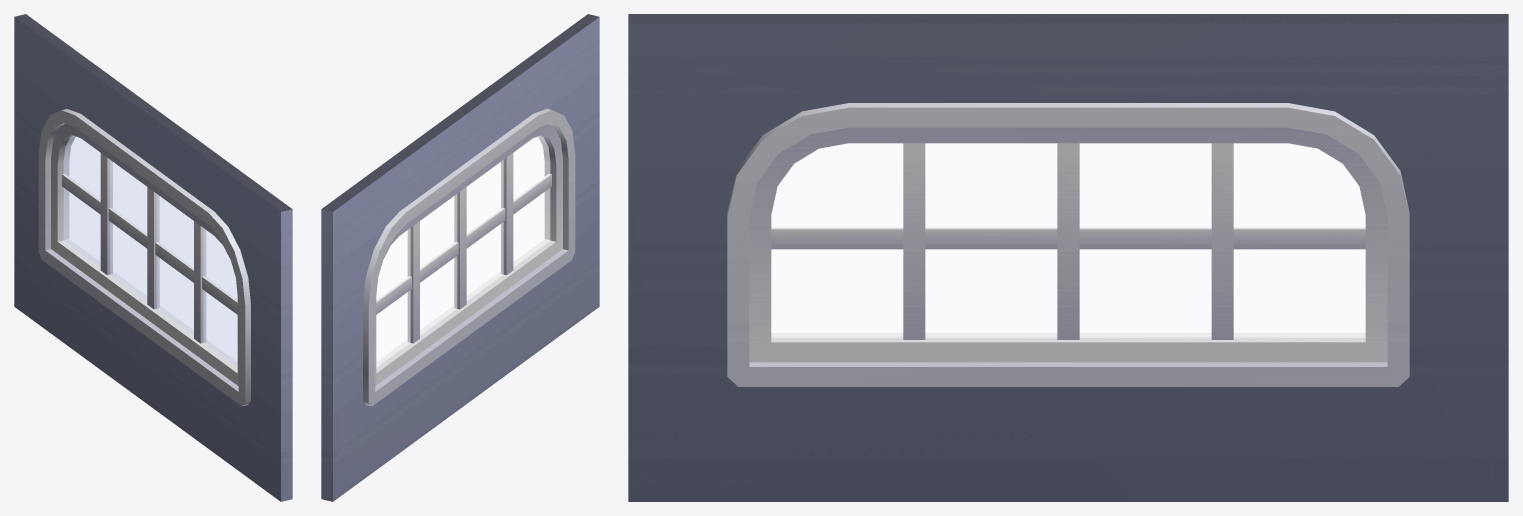
File: wall-window-wide-round-detailed.glb
The picture shows the model from 3 angles, left to right: view 1: azimuth 30°, elevation 25°; view 2: azimuth 150°, elevation 25°; view 3: azimuth 270°, elevation 25°; orthographic projection. The views are drawn at different scales.
Parts seen in each view (by area): view 1: wall-window-wide-round-detailed, (%ignore); view 2: wall-window-wide-round-detailed, (%ignore); view 3: wall-window-wide-round-detailed, (%ignore).
Boxes of the visible parts, x1=… form: wall-window-wide-round-detailed: x1=14, y1=14, x2=292, y2=501; (%ignore): x1=63, y1=136, x2=237, y2=367; wall-window-wide-round-detailed: x1=321, y1=14, x2=599, y2=501; (%ignore): x1=376, y1=136, x2=550, y2=367; wall-window-wide-round-detailed: x1=628, y1=14, x2=1508, y2=501; (%ignore): x1=771, y1=143, x2=1365, y2=337.
Size of the model in its own units: 0.2 by 2.4 by 4.
Materials: 2 (1 with a texture image).
